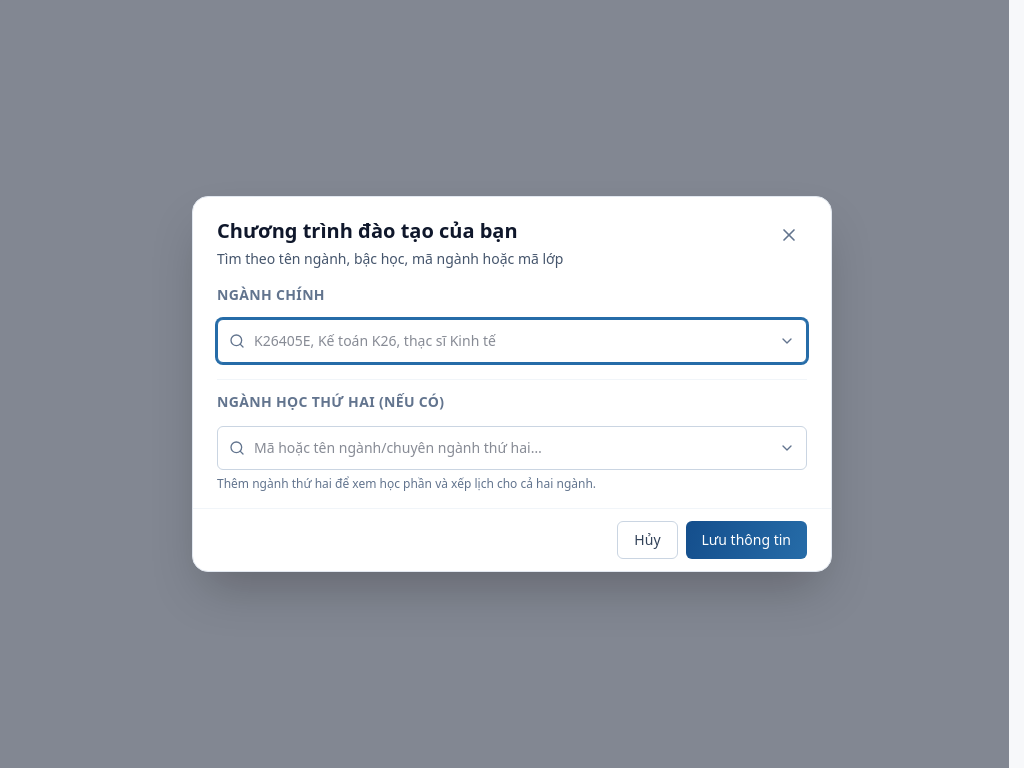
Test case: ProgramProfileDialog › expands KDTMHQ in the outer programme filter
Type "han quoc" into the field labelled "Ngành chính". click: point(512, 341)
box: [217, 319, 807, 363]
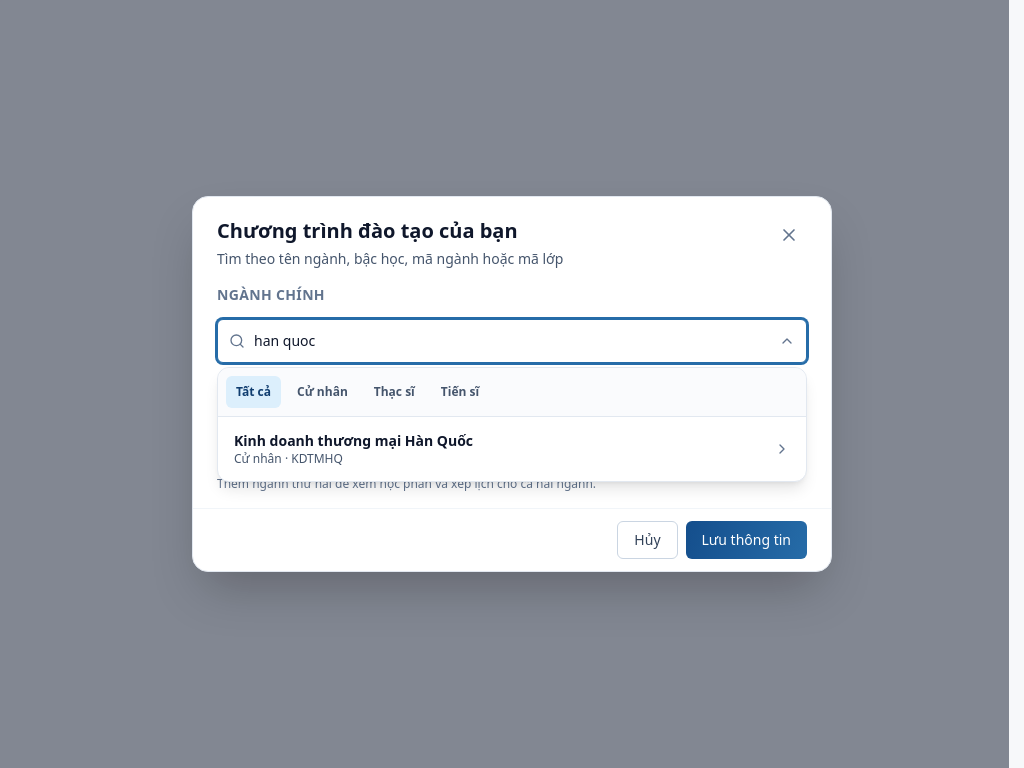
Expected: the button with aria-label "Kinh doanh thương mại Hàn Quốc · Cử nhân · KDTMHQ" is shown, [222, 421, 802, 477]
